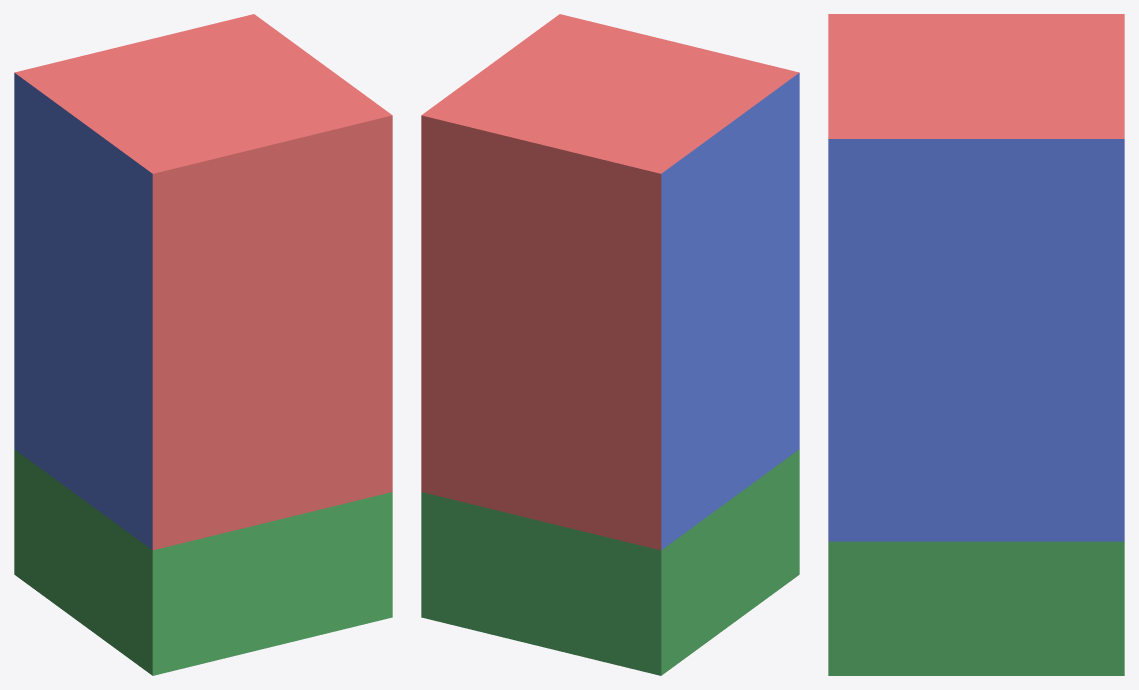
File: init_origin.pipe_length_0_5.dae
3 views of the same model, side by side, from view 1: azimuth 30°, elevation 25°; view 2: azimuth 150°, elevation 25°; view 3: azimuth 270°, elevation 25° (orthographic). The views are drawn at different scales.
Visible parts, largest first — view 1: ZXX (×3), Y (×2), ZXO (×2); view 2: ZXX (×3), Y (×2), ZXO (×2); view 3: ZXX (×2), Y, ZXO.
Boxes of the visible parts, x1=… form: ZXX (×3): x1=14, y1=14, x2=392, y2=424; Y (×2): x1=14, y1=449, x2=392, y2=675; ZXO (×2): x1=14, y1=324, x2=392, y2=550; ZXX (×3): x1=421, y1=14, x2=799, y2=424; Y (×2): x1=421, y1=449, x2=799, y2=675; ZXO (×2): x1=421, y1=324, x2=799, y2=550; ZXX (×2): x1=828, y1=14, x2=1124, y2=407; Y: x1=828, y1=541, x2=1124, y2=675; ZXO: x1=828, y1=407, x2=1124, y2=541.
Bounding box in the file's own units: 1 × 1 × 2.
